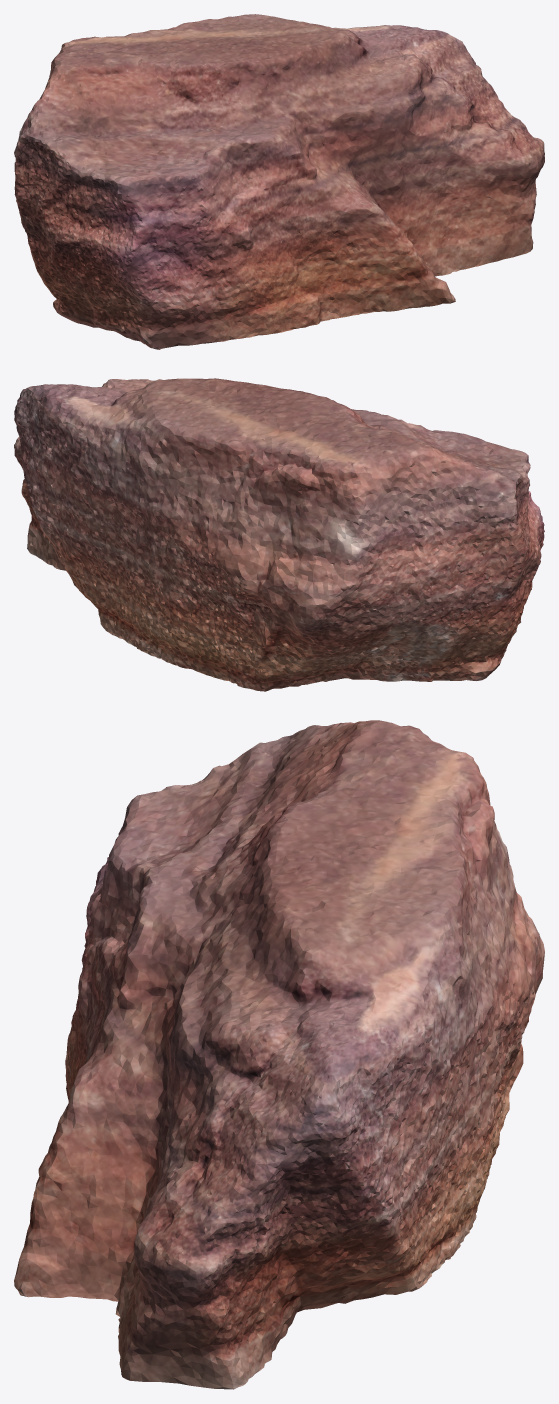
Rendered from Sandstone boulder.fbx.
The picture shows the model from 3 angles, top to bottom: view 1: azimuth 30°, elevation 25°; view 2: azimuth 150°, elevation 25°; view 3: azimuth 270°, elevation 25°; orthographic projection. The views are drawn at different scales.
Visible parts, largest first — view 1: Mesh_0; view 2: Mesh_0; view 3: Mesh_0.
Part boxes in pixels (<box>): Mesh_0: <box>14,14,544,349</box>; Mesh_0: <box>14,378,544,691</box>; Mesh_0: <box>14,720,544,1389</box>.
Size of the model in its own units: 95.68 by 41.33 by 55.82.
1 material, 1 textured.
